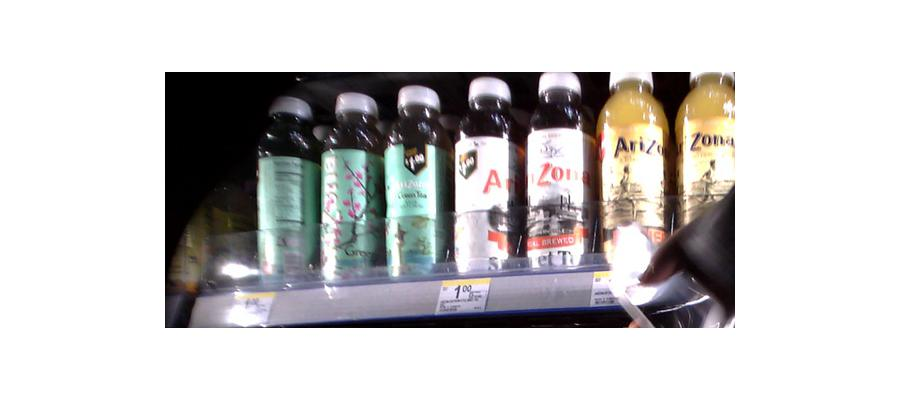bottle: (599, 69, 669, 276), (449, 78, 520, 276), (525, 71, 593, 270), (253, 92, 317, 285), (320, 95, 381, 286), (385, 84, 446, 274), (678, 68, 736, 232)
